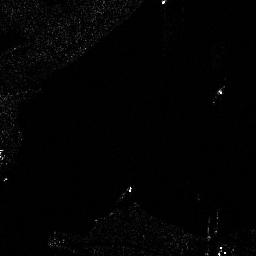ship: (212, 85, 225, 103)
